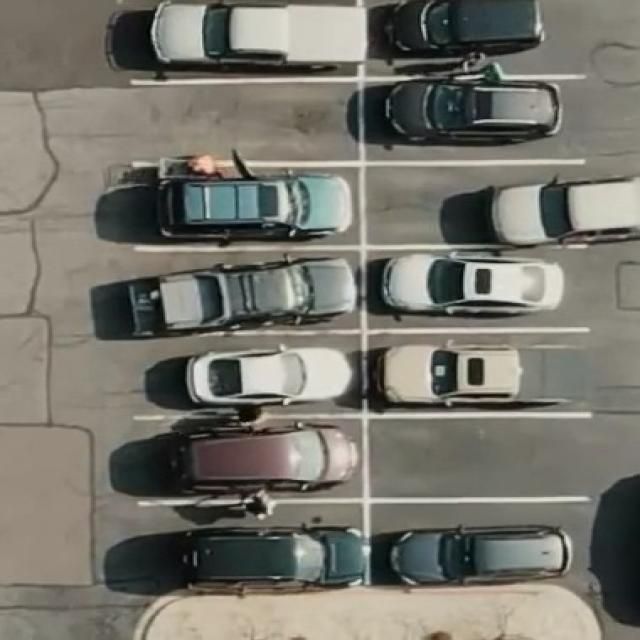space-empty: (128, 74, 362, 167), (366, 412, 602, 500)
space-occupied: (109, 498, 369, 595), (362, 157, 638, 248), (108, 242, 364, 337), (127, 330, 365, 422), (123, 413, 367, 502), (364, 326, 596, 416), (131, 157, 362, 245), (359, 71, 579, 161), (360, 244, 583, 332), (367, 497, 586, 586), (120, 1, 363, 80), (367, 0, 549, 68)
